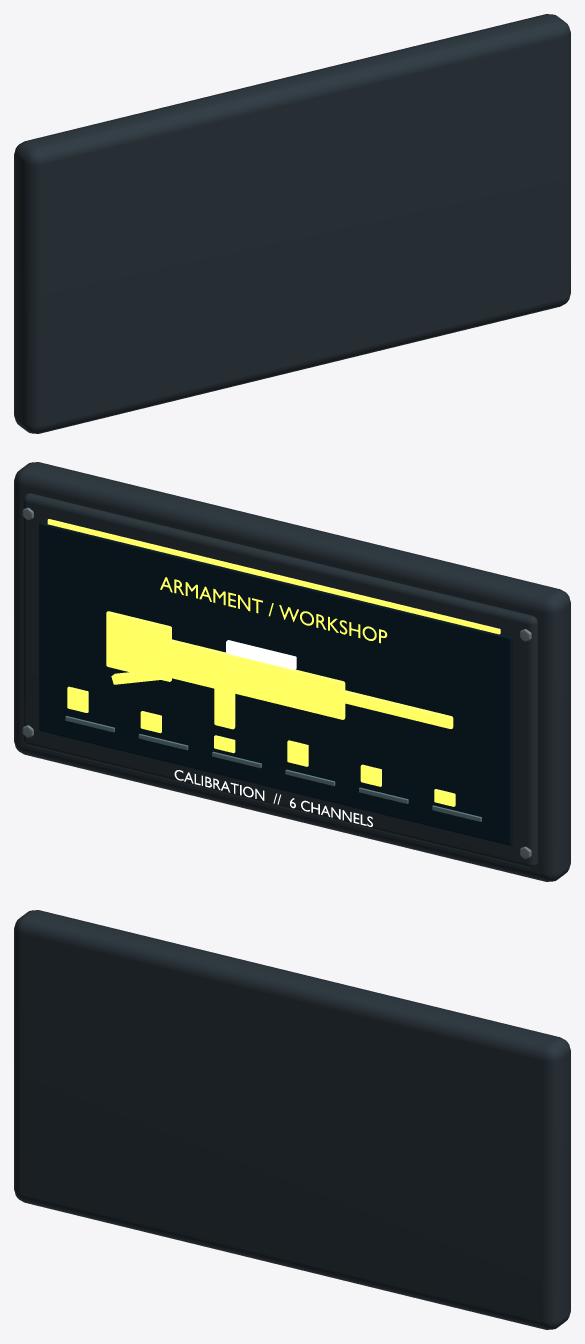
File: SM_Dock_Weapon_Screen.fbx
The picture shows the model from 3 angles, top to bottom: view 1: azimuth 30°, elevation 25°; view 2: azimuth 150°, elevation 25°; view 3: azimuth 330°, elevation 25°; orthographic projection.
Visible parts, largest first — view 1: SM_Dock_Weapon_Screen; view 2: SM_Dock_Weapon_Screen; view 3: SM_Dock_Weapon_Screen.
Part boxes in pixels (<box>): SM_Dock_Weapon_Screen: <box>14,14,570,433</box>; SM_Dock_Weapon_Screen: <box>14,462,570,881</box>; SM_Dock_Weapon_Screen: <box>14,910,570,1329</box>.
Size of the model in its own units: 134 by 13.5 by 67.
